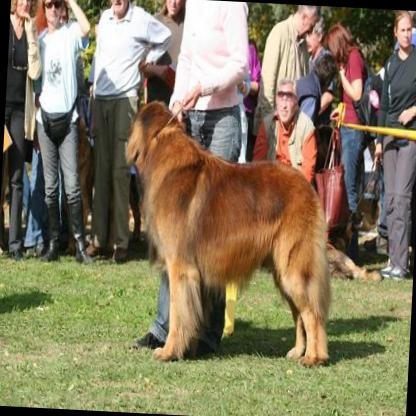Leonberg: (113, 96, 342, 368)
